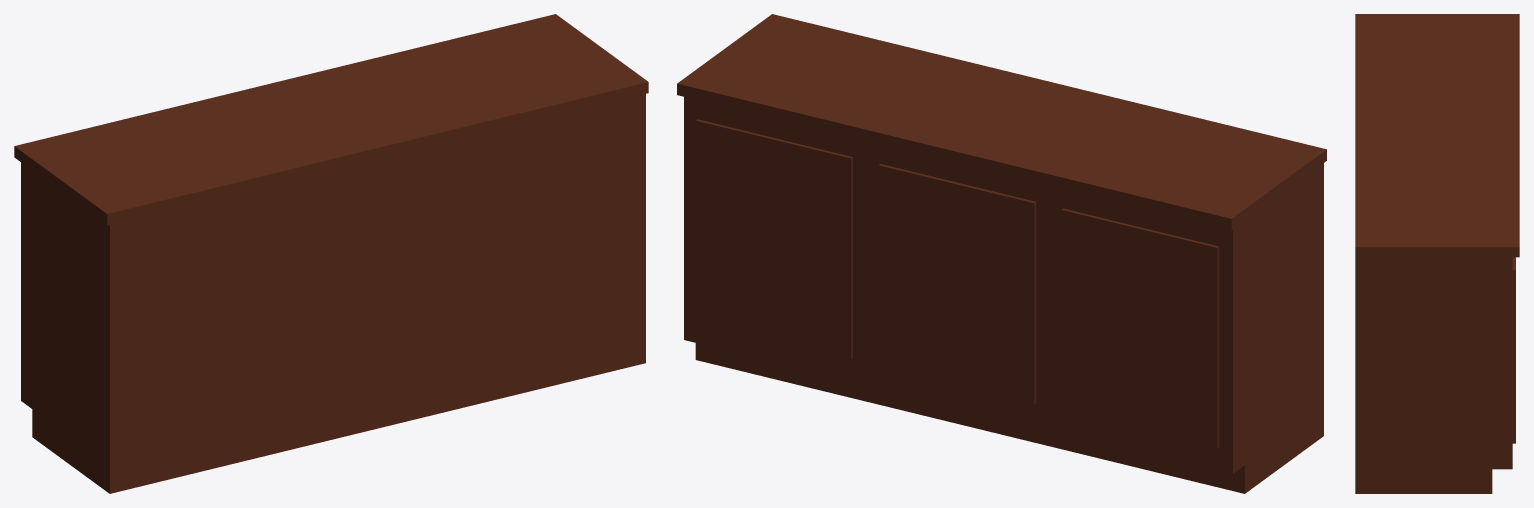
Rendered from parametric-counter-2nd.glb.
3 renders of one model, left to right at view 1: azimuth 30°, elevation 25°; view 2: azimuth 150°, elevation 25°; view 3: azimuth 270°, elevation 25°, orthographic. The views are drawn at different scales.
Visible parts, largest first — view 1: parametric-counter-2nd; view 2: parametric-counter-2nd; view 3: parametric-counter-2nd.
Boxes of the visible parts, x1=… form: parametric-counter-2nd: x1=14, y1=14, x2=648, y2=493; parametric-counter-2nd: x1=677, y1=14, x2=1326, y2=493; parametric-counter-2nd: x1=1355, y1=14, x2=1519, y2=493.
Size of the model in its own units: 2.02 by 1 by 0.6.
